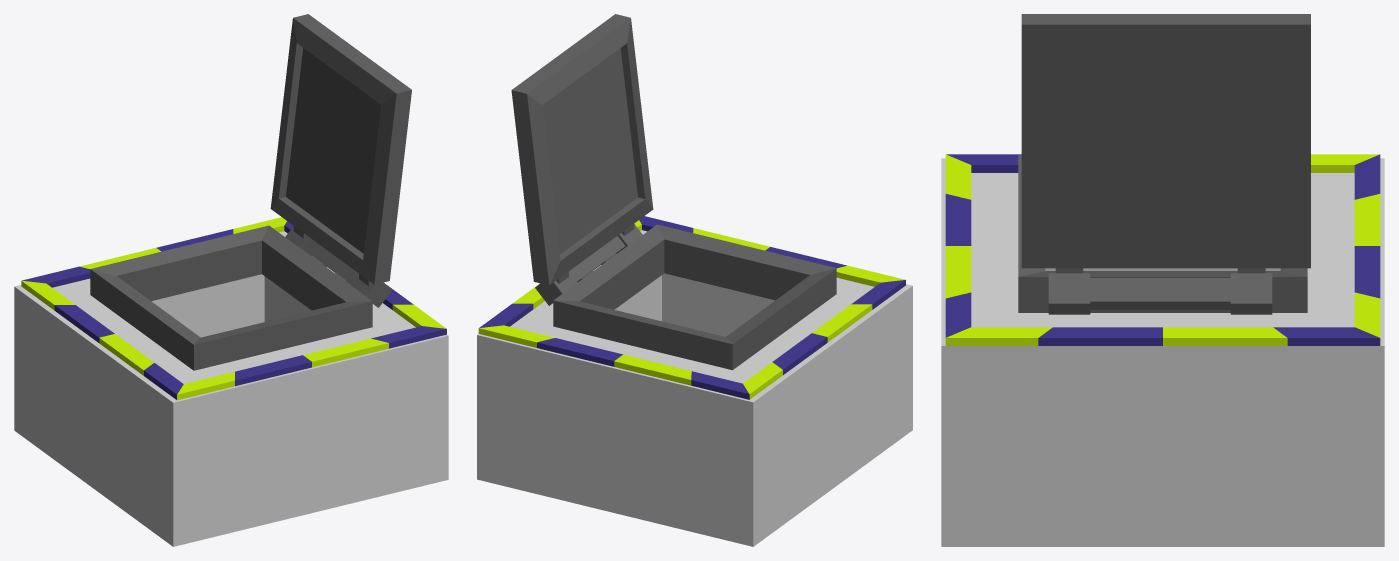
File: EXIT.glb
3 renders of one model, left to right at view 1: azimuth 30°, elevation 25°; view 2: azimuth 150°, elevation 25°; view 3: azimuth 270°, elevation 25°, orthographic. The views are drawn at different scales.
Parts seen in each view (by area): view 1: Cube; view 2: Cube; view 3: Cube.
Boxes of the visible parts, x1,y1,x2,y2 form: Cube: [14, 14, 448, 546]; Cube: [477, 14, 912, 546]; Cube: [941, 14, 1384, 546].
Size of the model in its own units: 2 by 2.57 by 2.
Materials: 2 (1 with a texture image).
